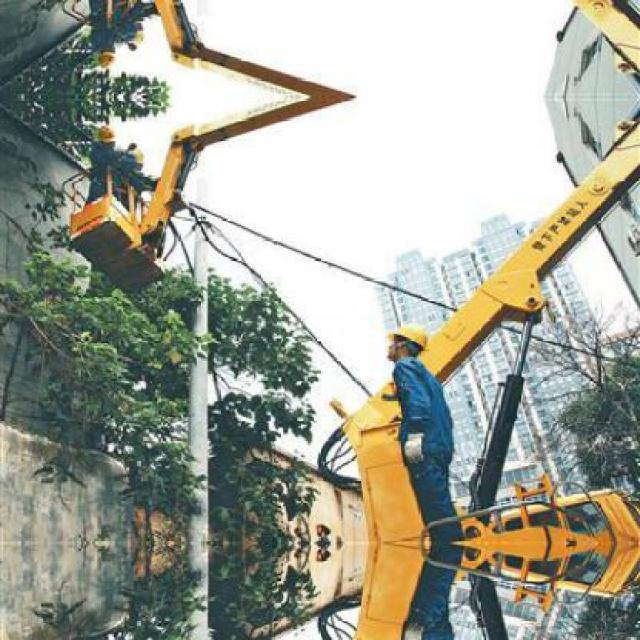helmet: (386, 322, 432, 362), (92, 42, 120, 72), (92, 120, 120, 148)
